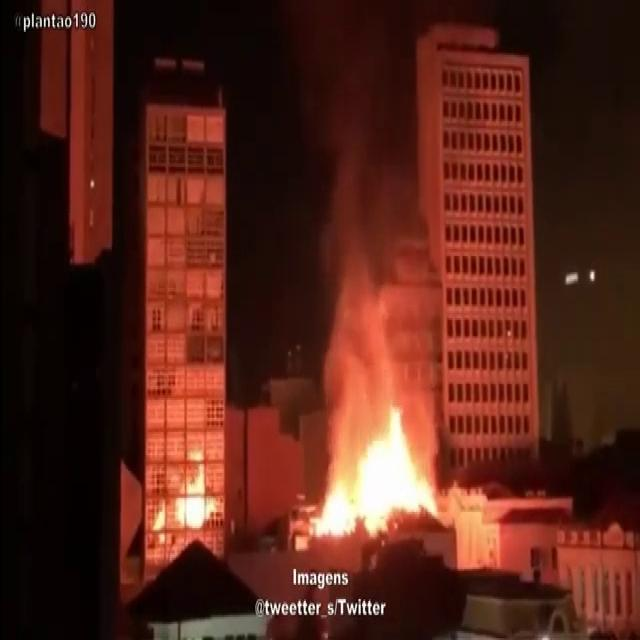Fire: (366, 432, 426, 509), (324, 486, 359, 535)
